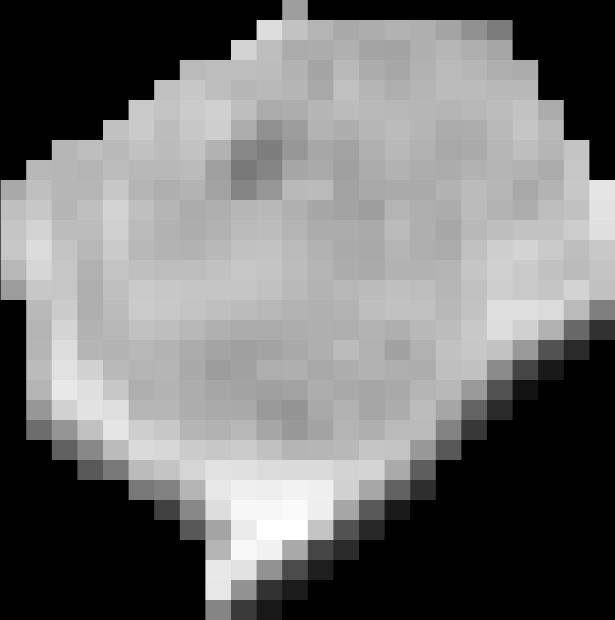tumor_good_chance: (1, 0, 615, 620)
